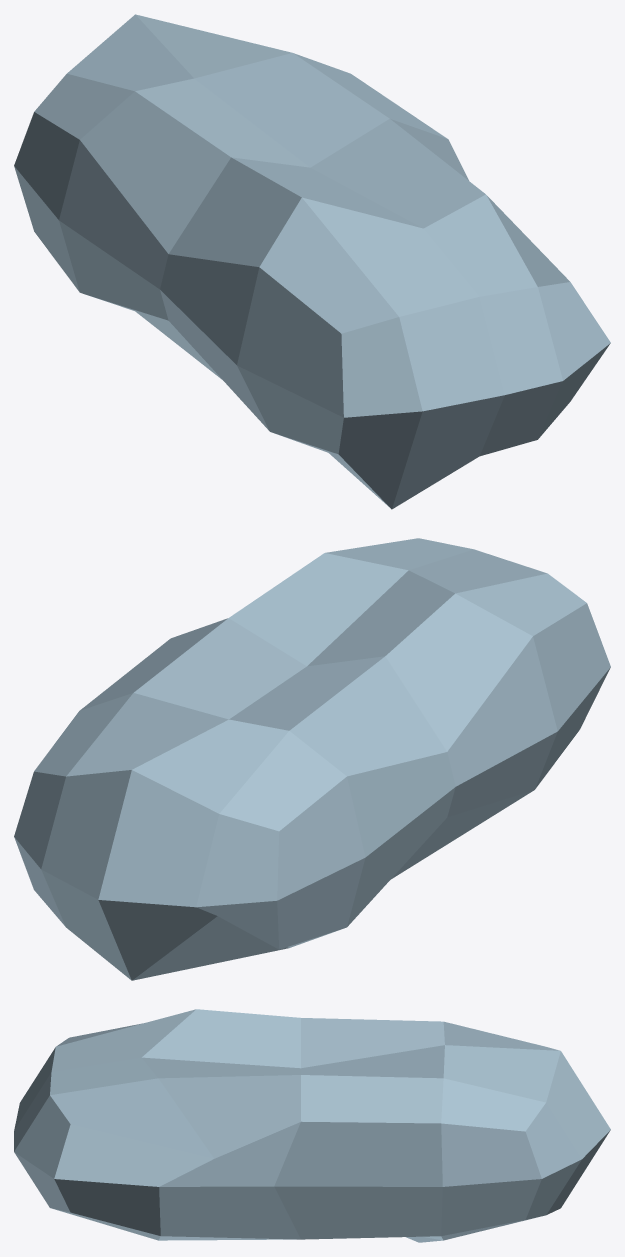
Rendered from Stone (2).fbx.
3 views of the same model, one above another, from view 1: azimuth 30°, elevation 25°; view 2: azimuth 150°, elevation 25°; view 3: azimuth 270°, elevation 25° (orthographic). The views are drawn at different scales.
Visible parts, largest first — view 1: Rock 2; view 2: Rock 2; view 3: Rock 2.
Boxes of the visible parts, <box> form: Rock 2: <box>14,14,610,509</box>; Rock 2: <box>14,538,610,980</box>; Rock 2: <box>14,1009,610,1242</box>.
Bounding box in the file's own units: 517 × 430 × 1135.
